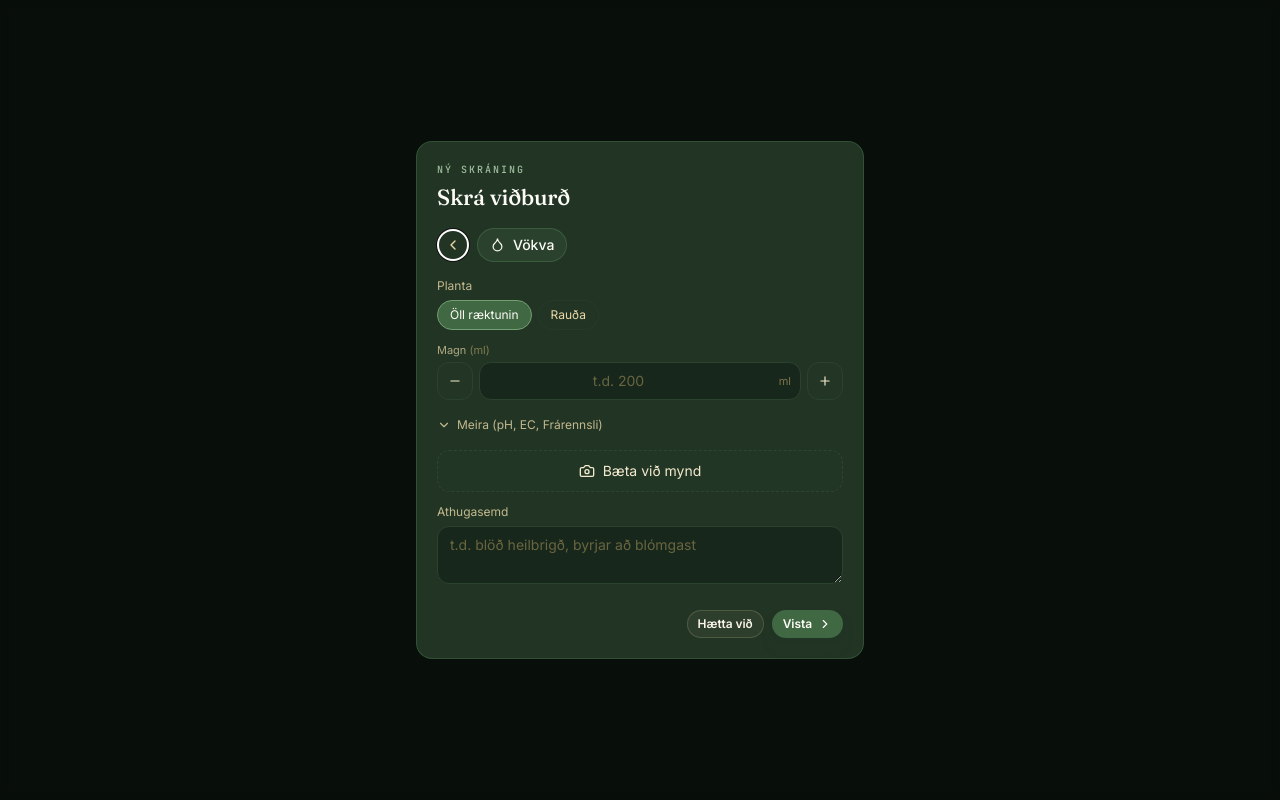
it: LogComposer — skref 2: form eftir tegund › þrepahnappur eykur Magn um skrefið (50 ml)
This screenshot has width=1280, height=800.
What coordinates should you click on to do the following:
click the button named "Magn — auka"
I would click on:
 (825, 381)
Its box is [807, 362, 843, 400].
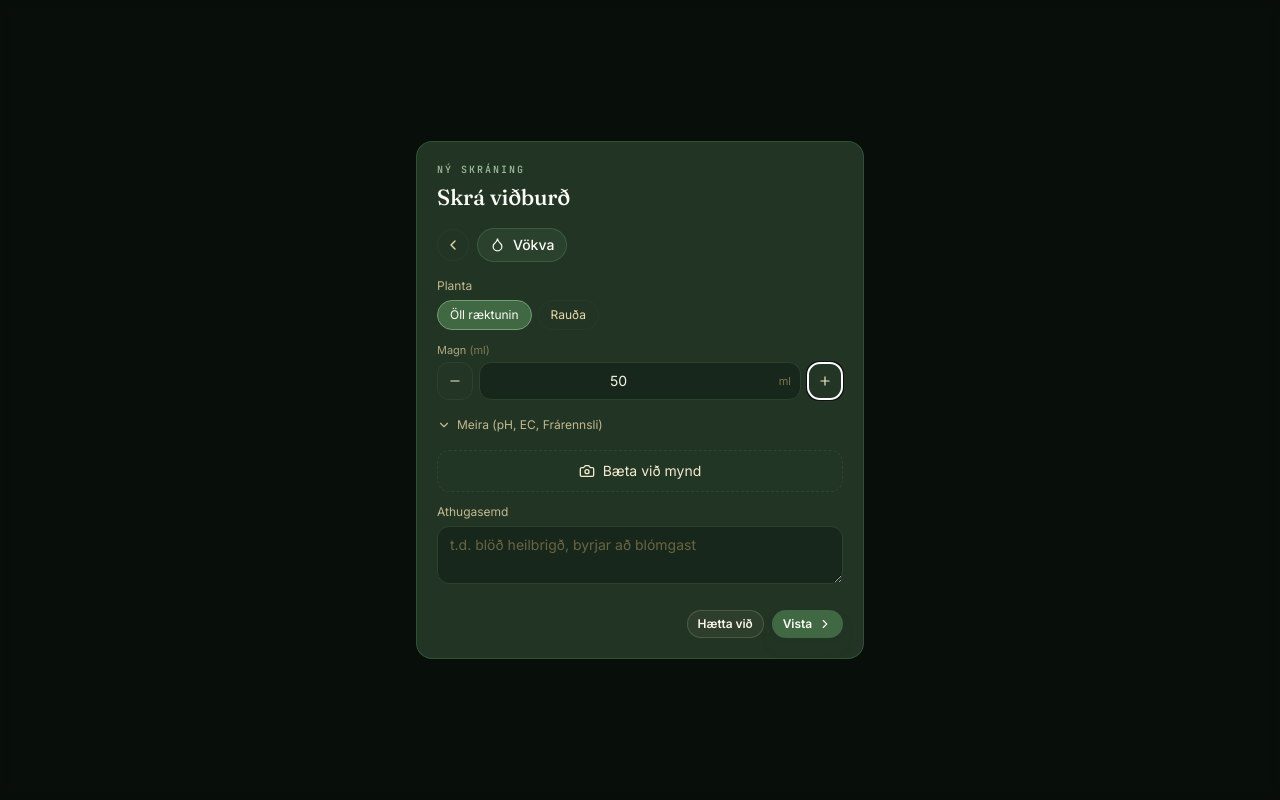
Expected: the number field with placeholder "t.d. 200" holds "50", [479, 362, 801, 400]
What coordinates should you click on to do the following:
click the button named "Magn — auka"
I would click on:
 (825, 381)
Its box is [807, 362, 843, 400].
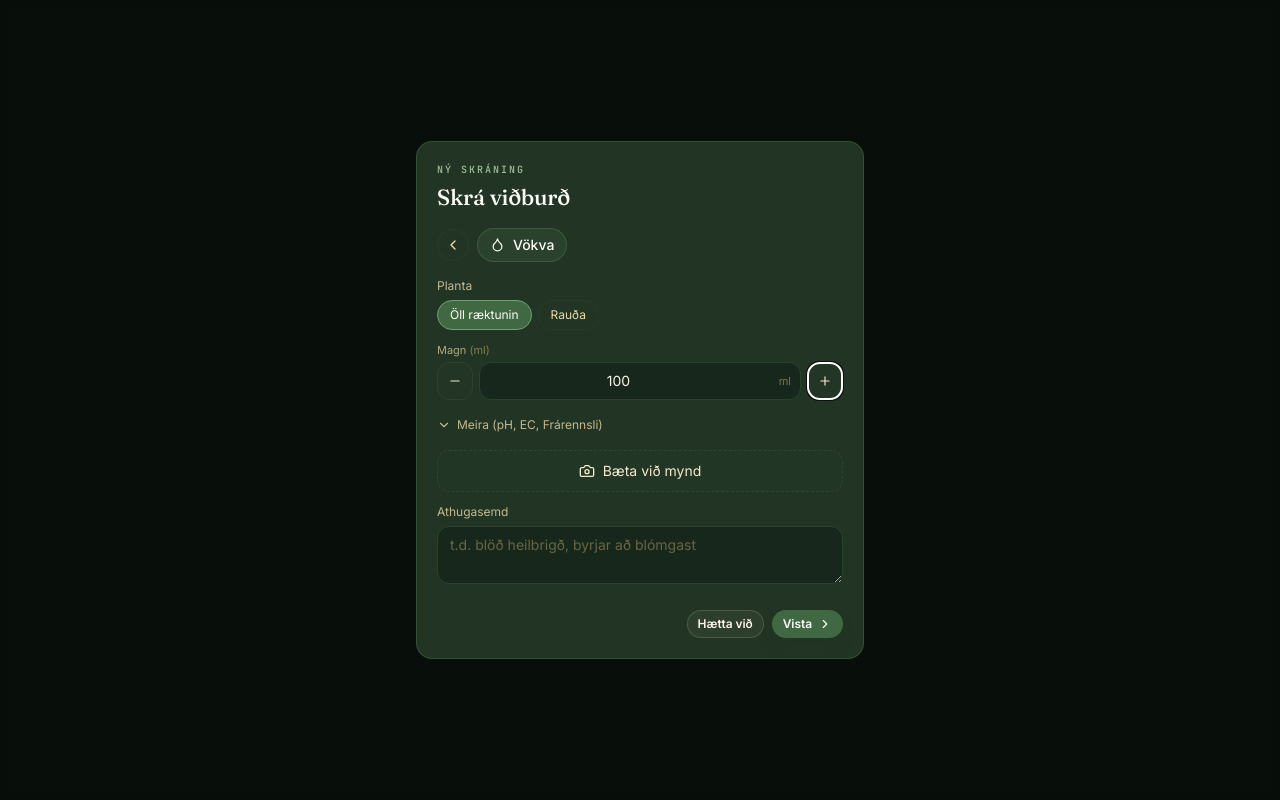
Expected: the number field with placeholder "t.d. 200" holds "100", [479, 362, 801, 400]
